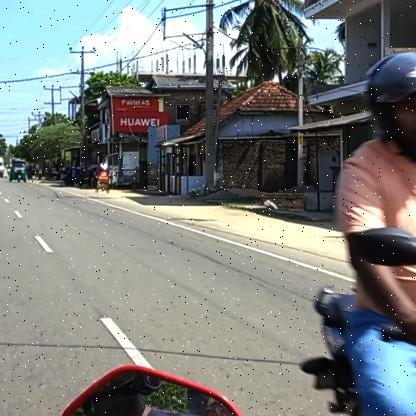motorcycle: (280, 270, 416, 416)
